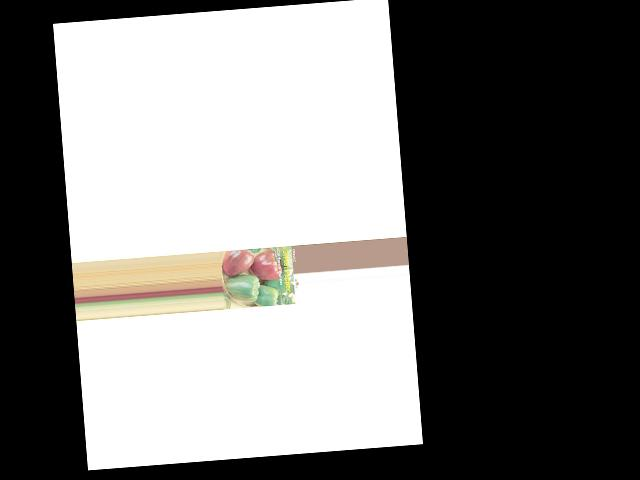bell_pepper: (249, 286, 281, 308)
